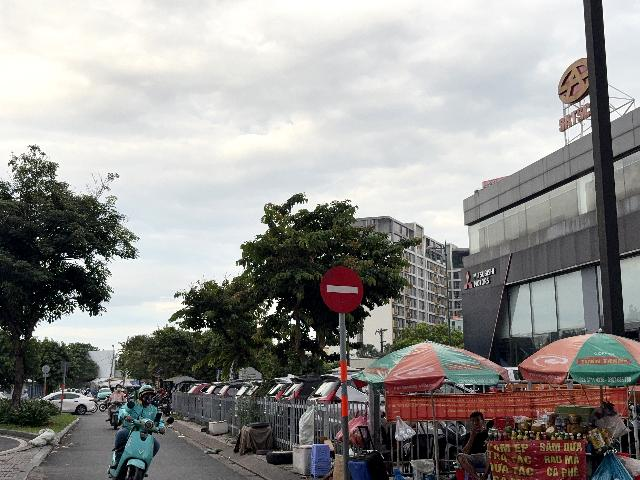cam-di-nguoc-chieu: (320, 266, 363, 313)
